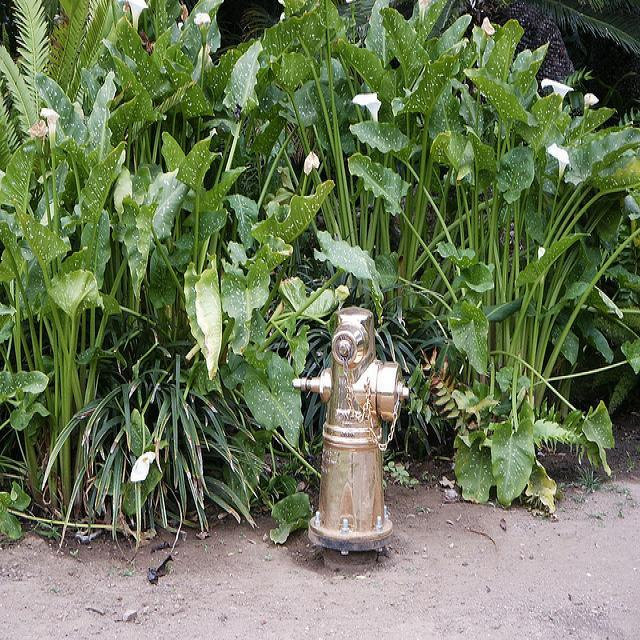fire_hydrant: (283, 312, 404, 562)
